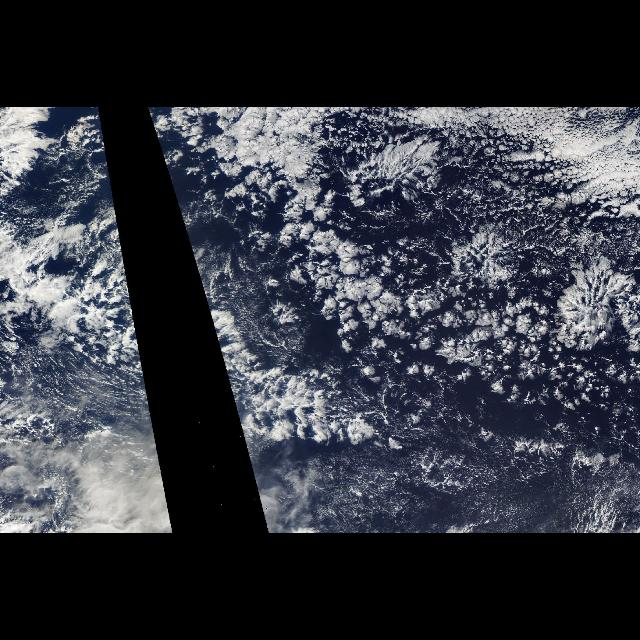Flower: (302, 219, 640, 409)
Sugar: (313, 453, 631, 531)
